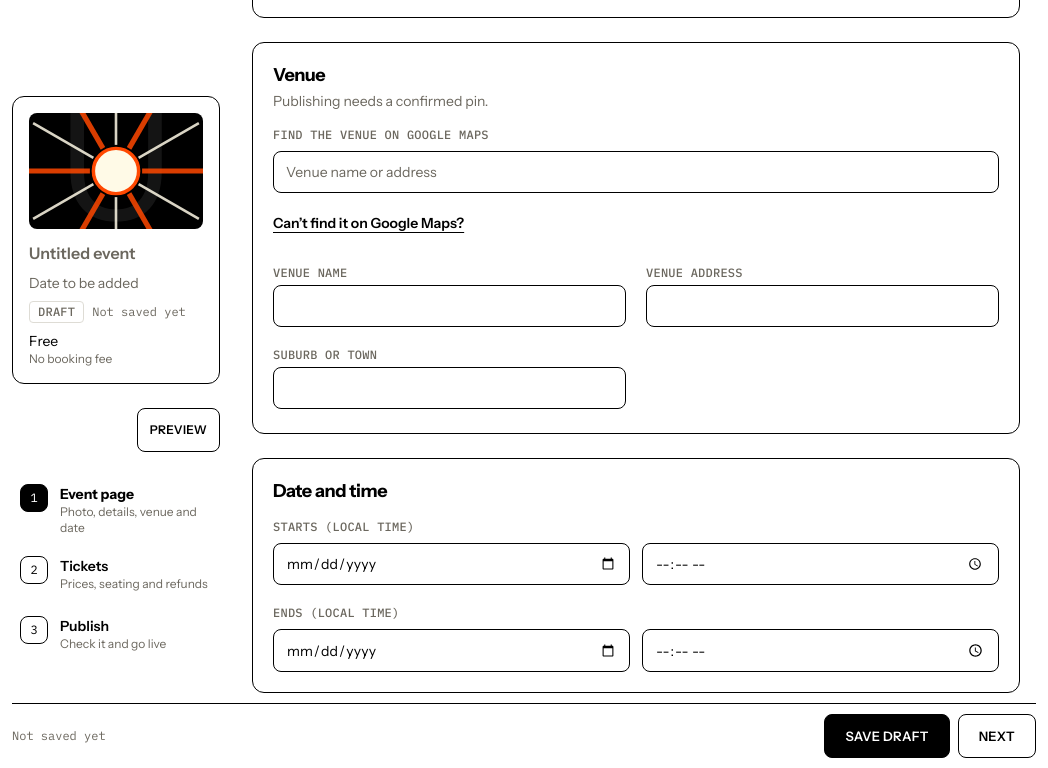
Test case: VenueSuburbField — resolving the suburb › a bare shared name is the Victorian one (owner decision D7); a state picks the other
The image size is (1048, 768).
(page scrolled)
Type "Richmond" into the field labelled "Suburb or town" at (450, 388), box [273,367,626,409]
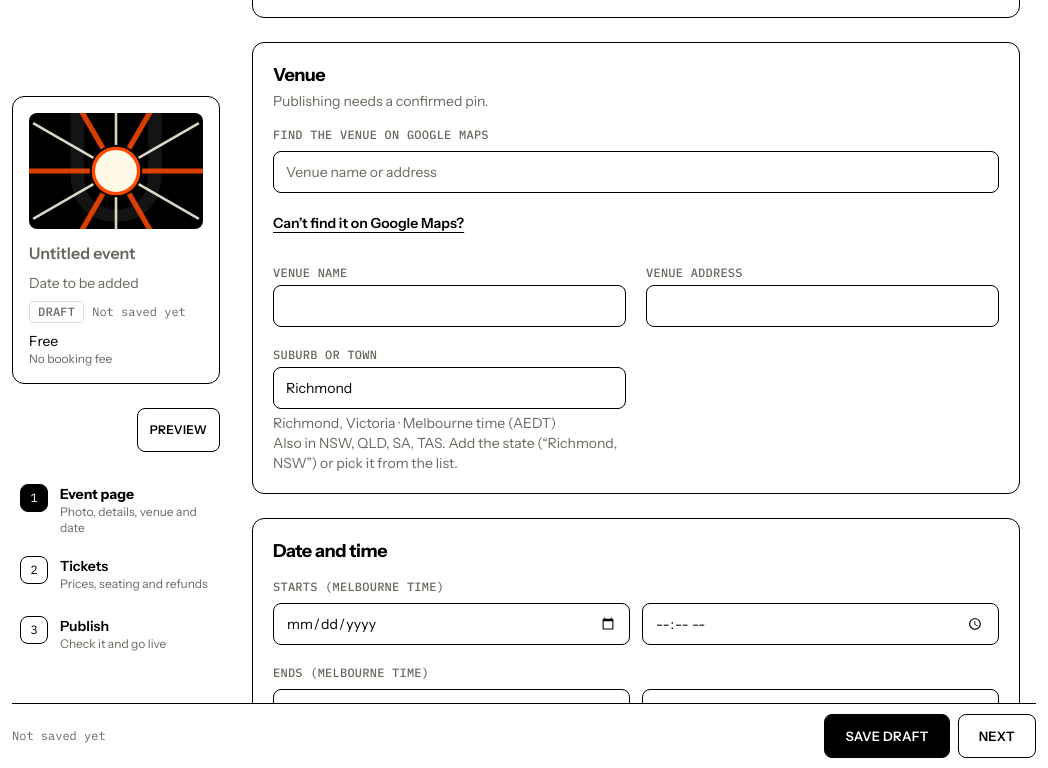
Result: the element with id "suburb-hint" shows "Richmond, Victoria · Melbourne time" at [273,414,556,432]
Replace the text in the field labelled "Suburb or town" with "Richmond, NSW" at (450, 388), box [273,367,626,409]
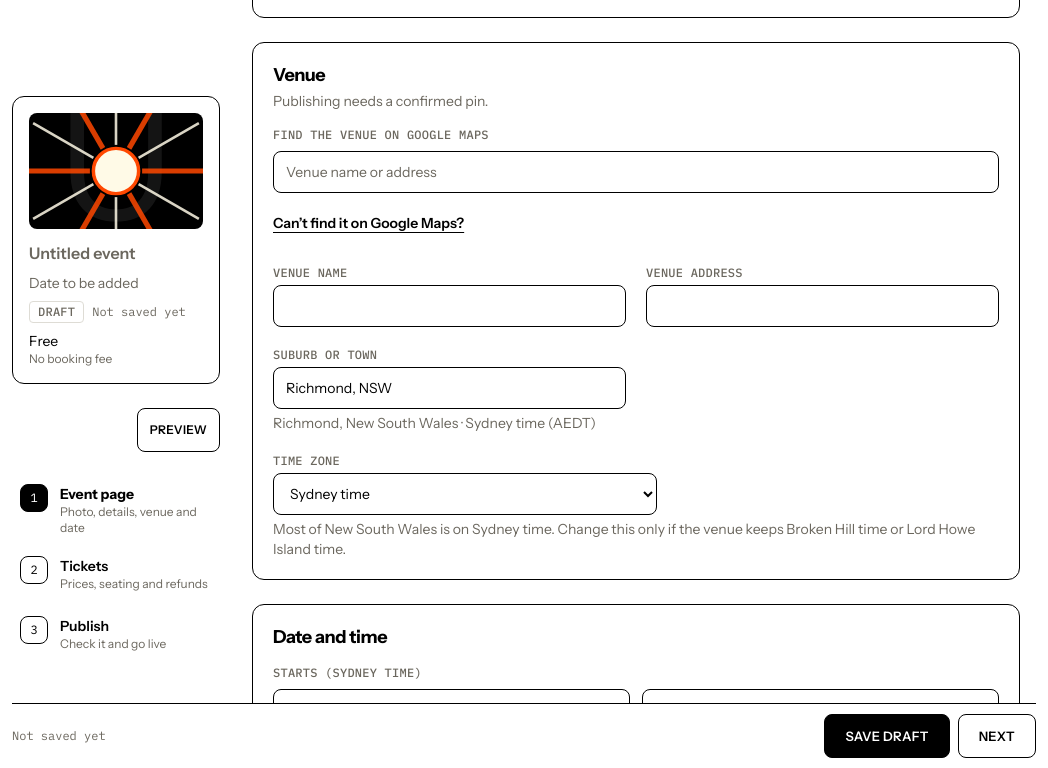
Result: the text with id "suburb-hint" reads "Richmond, New South Wales · Sydney time (AEDT)" at [273,414,596,432]
Result: the text "Starts (Sydney time)" is shown at [273,665,422,681]
